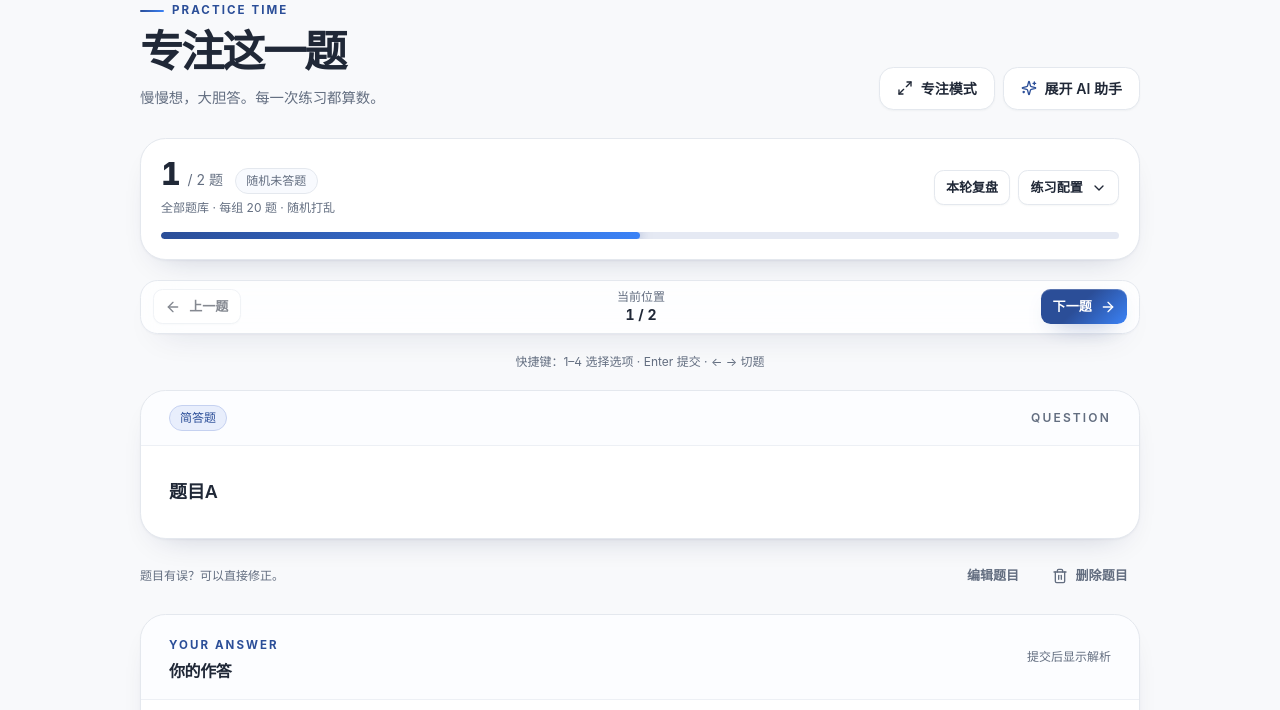
it: AI context isolation and pending uploads › never sends the previous answer id with the next question
Expected: the text "题目A" is shown, [169, 480, 218, 502]
Click the button "展开 AI 助手": (1071, 88) [1003, 67, 1140, 110]
(page scrolled)
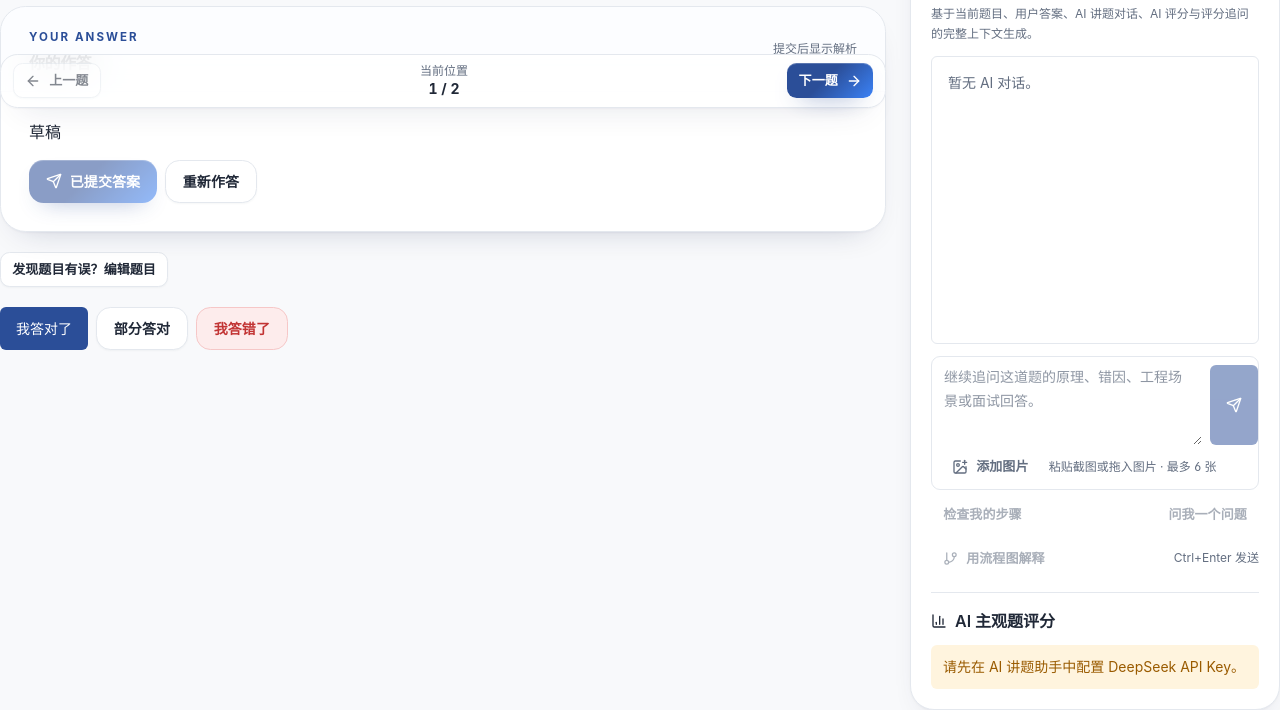
Click the button "下一题": (830, 81) [787, 63, 873, 99]
(page scrolled)
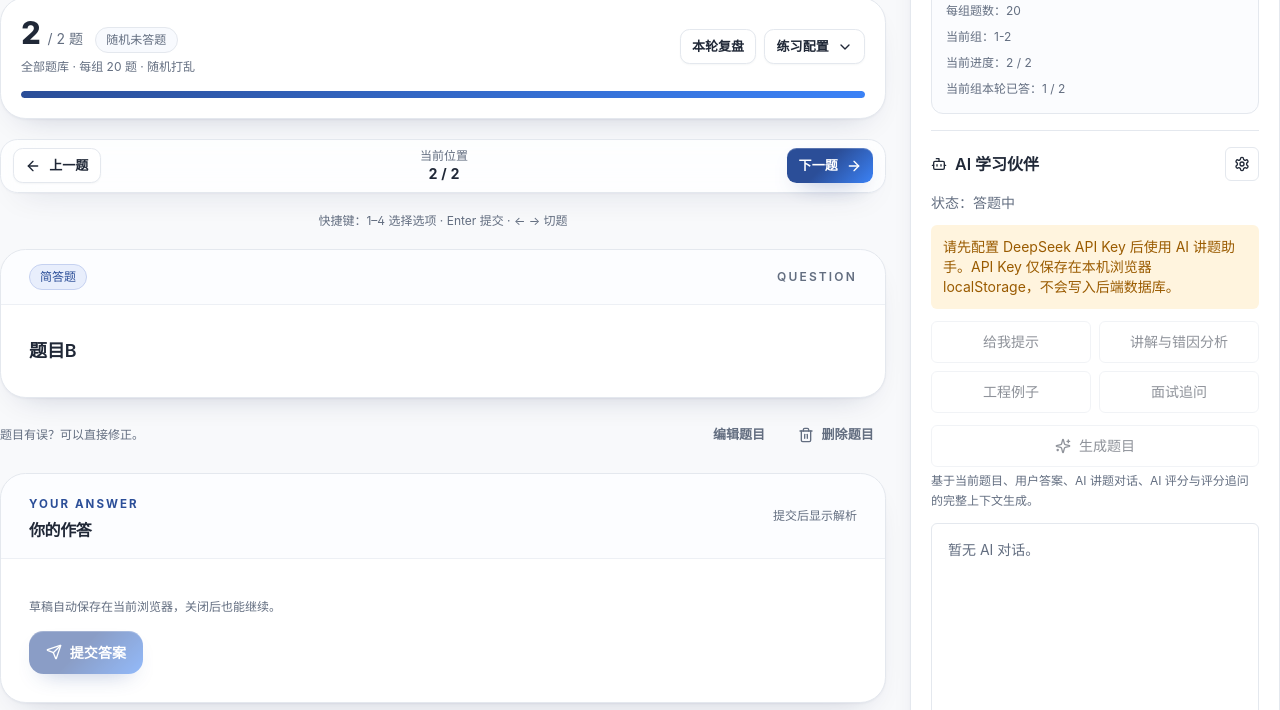
Expected: the text "题目B" is shown, [29, 340, 77, 360]
